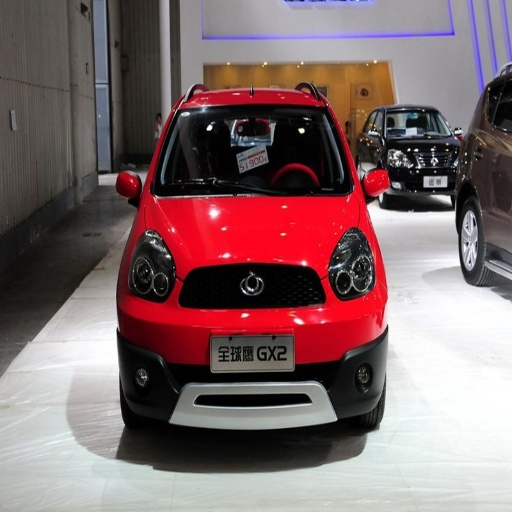front_bumper: (122, 264, 387, 428)
hood: (146, 195, 355, 273)
